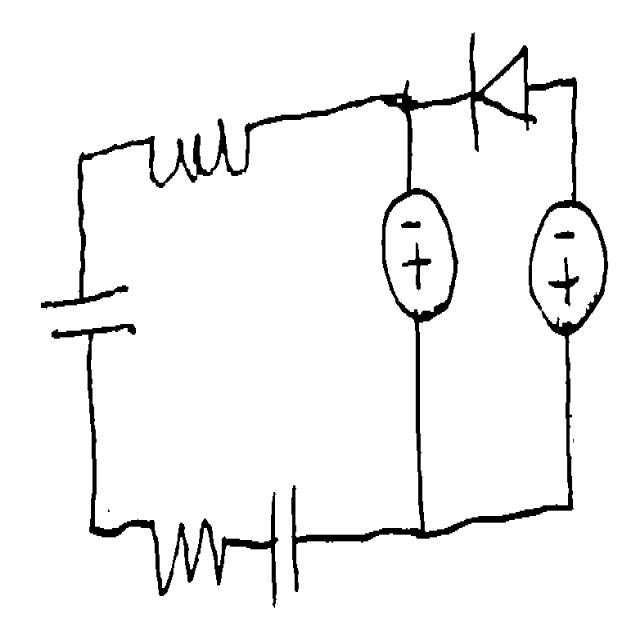capacitor: (31, 266, 146, 356), (259, 471, 314, 616)
dc: (373, 176, 470, 330), (521, 190, 612, 346)
diode: (458, 22, 542, 162)
inductor: (134, 111, 261, 194)
resistor: (133, 491, 234, 609)
